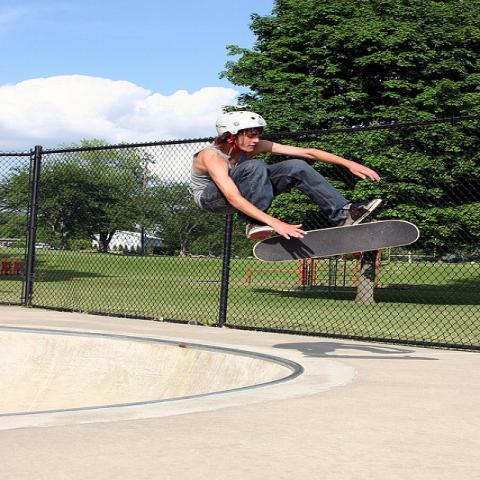car: (49, 245, 61, 250), (35, 243, 43, 248)
